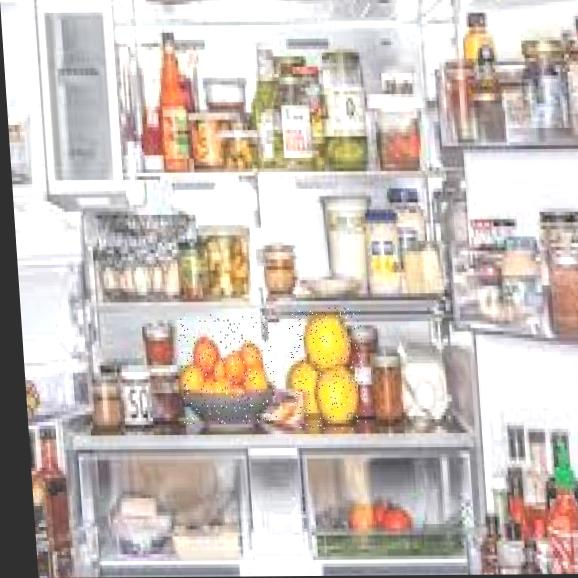lemons: (288, 308, 368, 430)
tomatoes: (176, 314, 277, 424)
